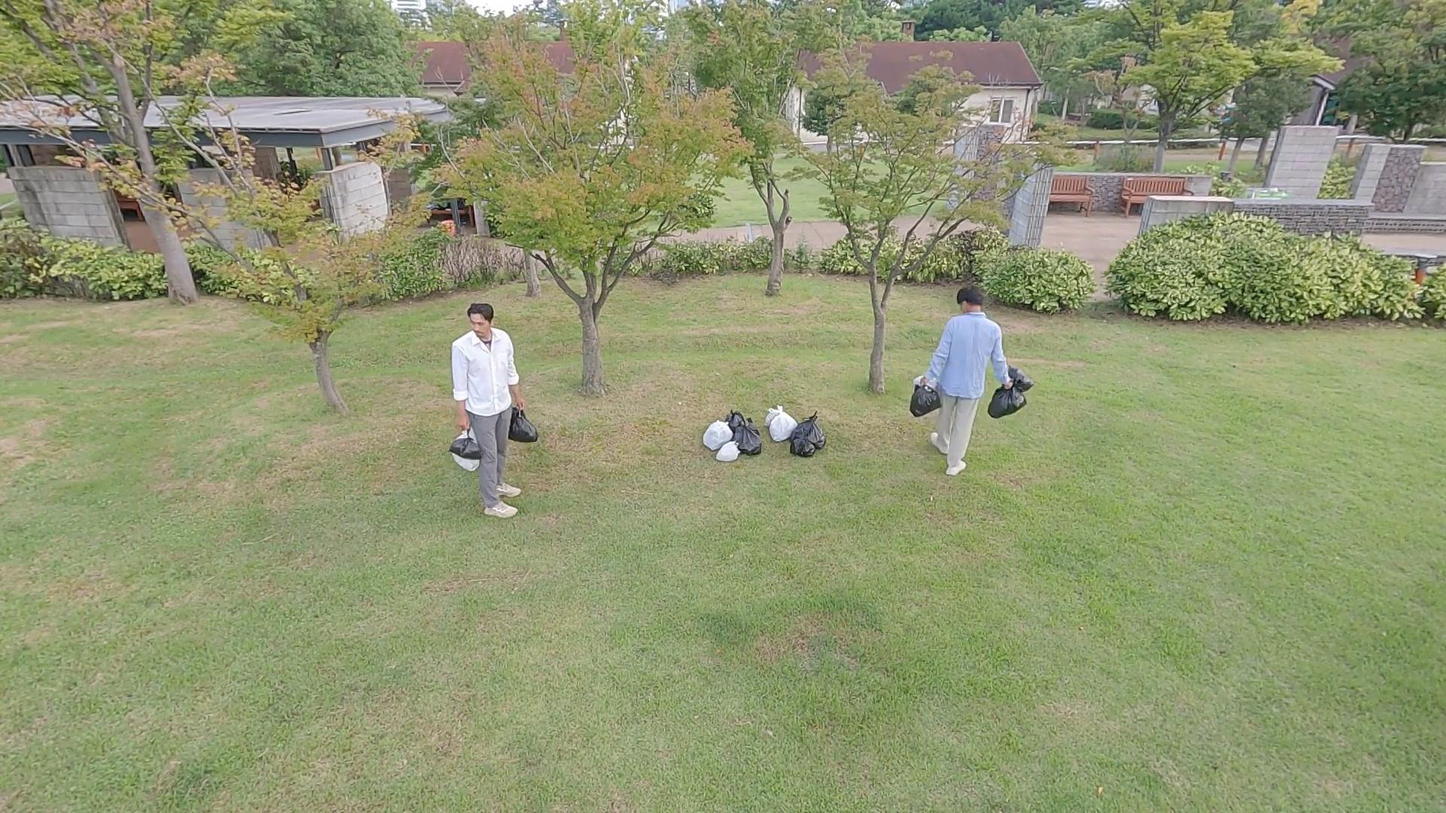person: (908, 282, 1030, 480), (440, 300, 545, 521)
trash: (699, 417, 738, 457), (447, 420, 477, 468), (506, 407, 543, 445), (788, 409, 826, 446), (991, 385, 1030, 419), (734, 415, 762, 456), (1003, 362, 1034, 397), (906, 385, 940, 416), (769, 405, 798, 441), (720, 408, 742, 453), (785, 429, 818, 458), (451, 431, 483, 459), (713, 438, 744, 463), (910, 371, 939, 394), (764, 406, 789, 428)
